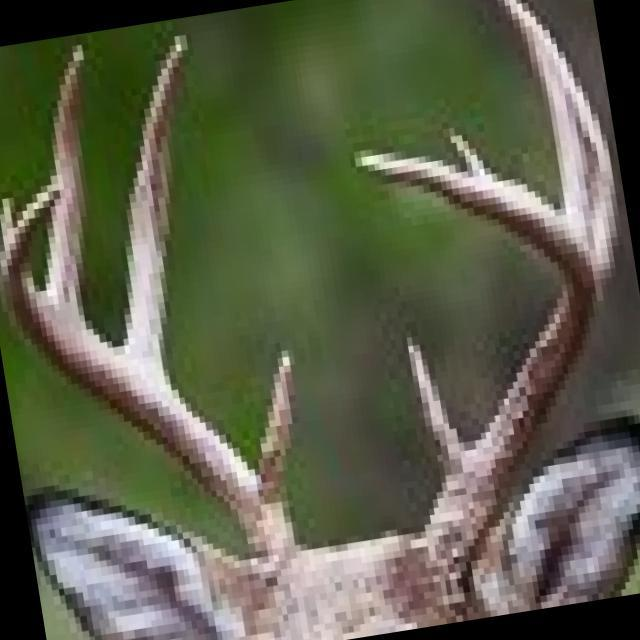L-F: (351, 147, 596, 619)
L-G1: (403, 330, 467, 484)
L-G3: (518, 24, 593, 249)
L-G4: (439, 122, 502, 176)
R-G1: (254, 345, 294, 517)
R-G2: (116, 27, 190, 388)
R-G3: (42, 40, 89, 323)
